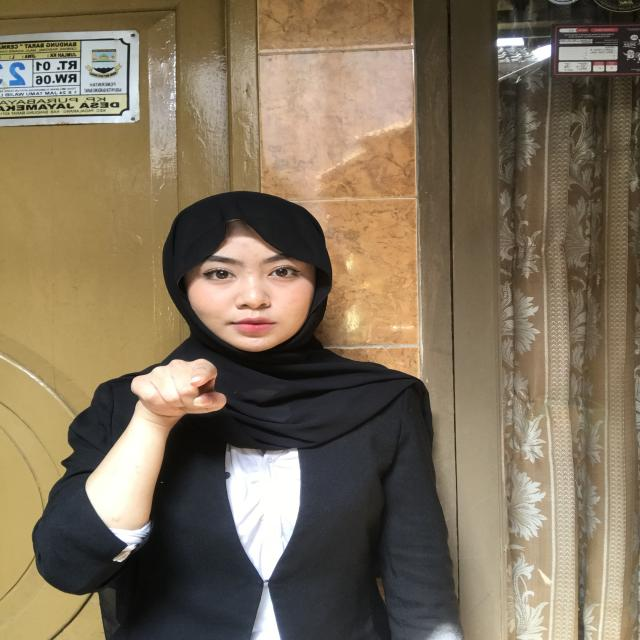kamu: (105, 329, 262, 483)
